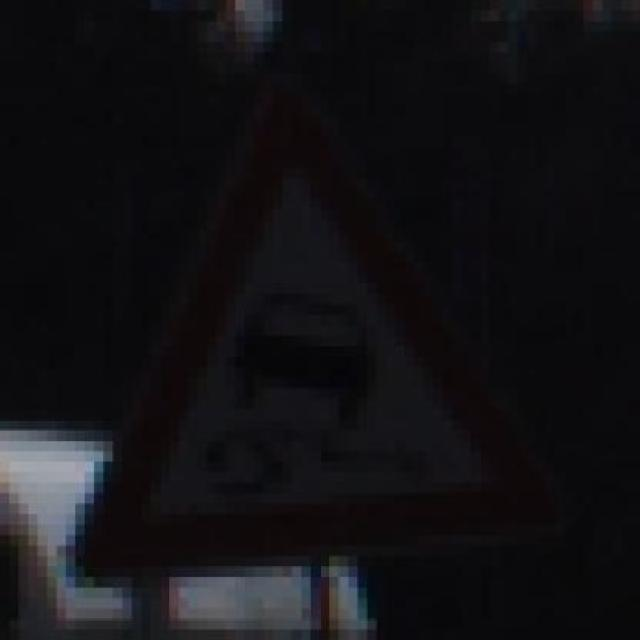Slippery Road Ahead: (58, 85, 556, 589)
